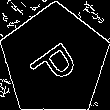P_NE: (25, 31, 85, 90)
